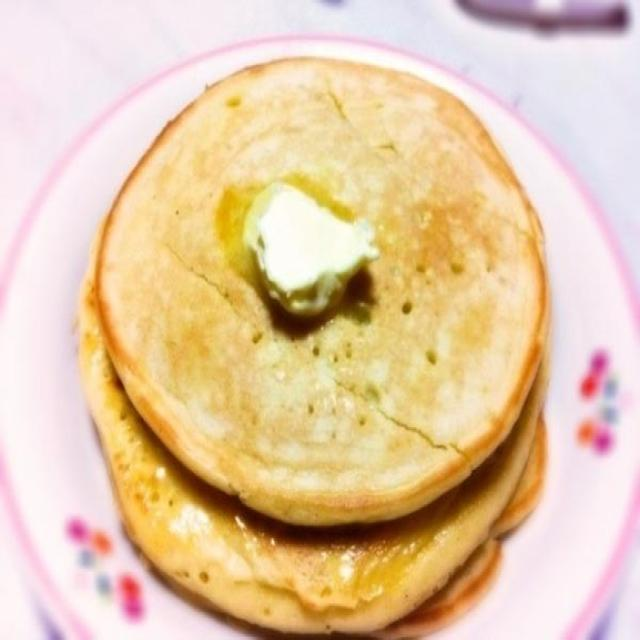蛋糕甜品: (5, 24, 629, 631)
